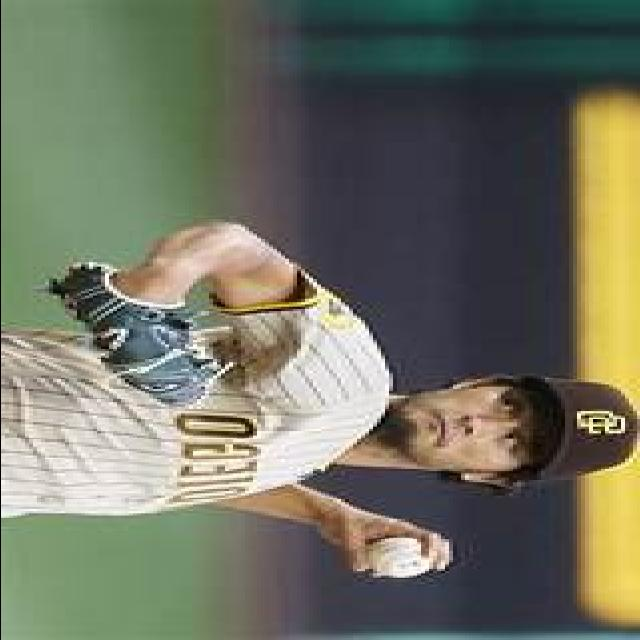ball: (363, 536, 439, 580)
